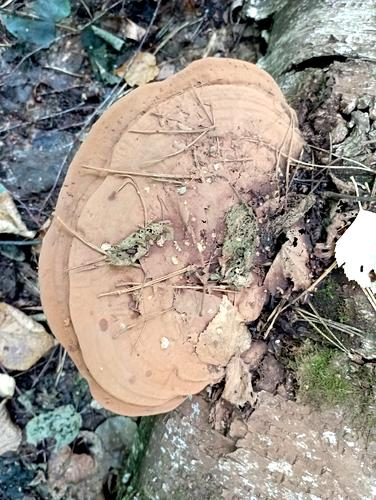Ganoderma - Fruit Body: (38, 56, 304, 415)
